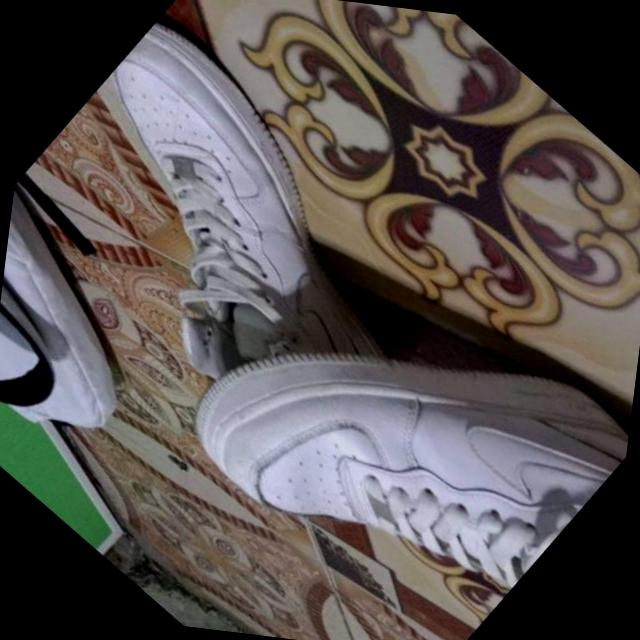nike_fake_airforce: (0, 0, 509, 481), (145, 197, 640, 640)
